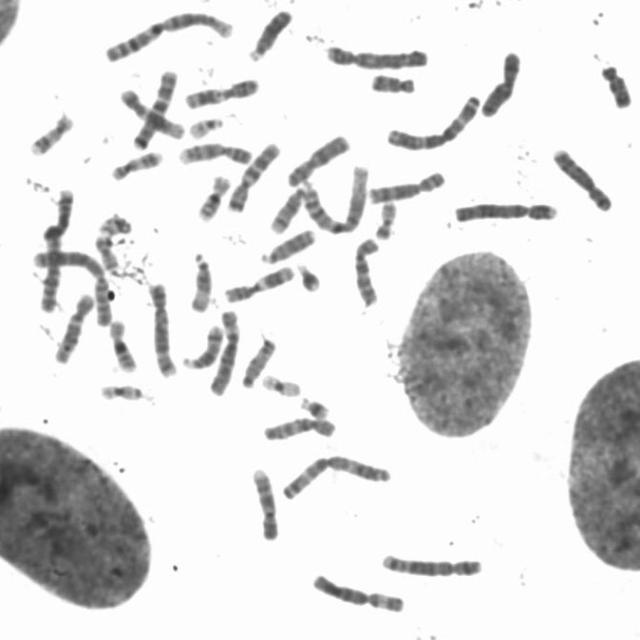A1: (102, 11, 235, 65), (300, 165, 369, 236)
A2: (31, 248, 113, 328), (37, 186, 74, 314)
A3: (383, 95, 482, 153), (281, 454, 393, 502)
B4: (325, 44, 431, 72), (452, 202, 559, 224)
B5: (146, 282, 179, 379), (381, 553, 484, 577)
C10: (351, 235, 382, 309), (261, 416, 336, 444)
C11: (222, 264, 294, 304), (183, 78, 262, 109)
C12: (119, 88, 186, 141), (52, 293, 95, 365)
C6: (308, 572, 406, 617), (207, 307, 242, 400)
C7: (225, 141, 284, 214), (130, 69, 178, 152)
C8: (552, 148, 614, 214), (367, 171, 447, 205)
C9: (249, 466, 281, 540), (176, 141, 254, 170)
D13: (246, 10, 292, 64), (258, 228, 317, 264)
D14: (268, 179, 313, 237), (181, 325, 224, 372)
D15: (240, 338, 276, 390), (189, 252, 213, 314)
E16: (196, 173, 232, 224), (106, 318, 138, 374)
E17: (27, 111, 76, 158), (110, 149, 165, 183)
E18: (598, 64, 634, 110), (368, 73, 417, 95)
F19: (258, 375, 303, 399), (97, 383, 144, 404)
F20: (374, 200, 399, 242), (93, 235, 119, 271)
G21: (298, 397, 332, 421), (296, 263, 322, 294)
G22: (187, 117, 225, 141), (97, 214, 134, 238)
X: (286, 134, 352, 188), (480, 49, 523, 119)
